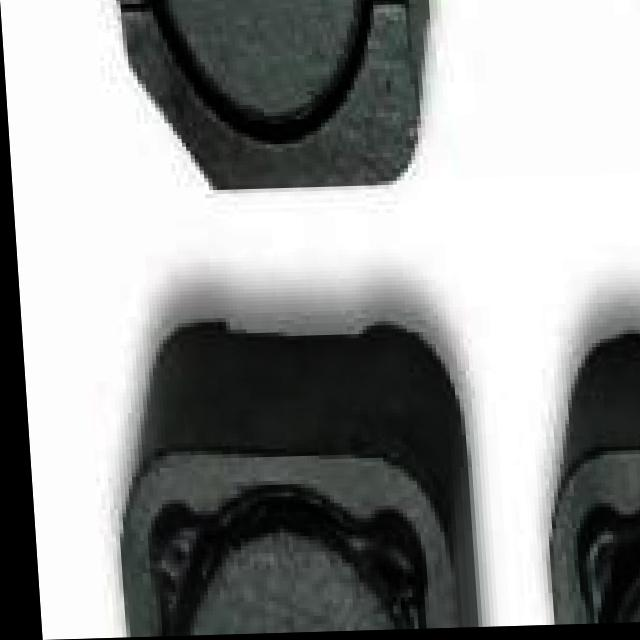inductor: (89, 317, 490, 638), (104, 0, 443, 202), (535, 353, 640, 628), (592, 0, 640, 322)
